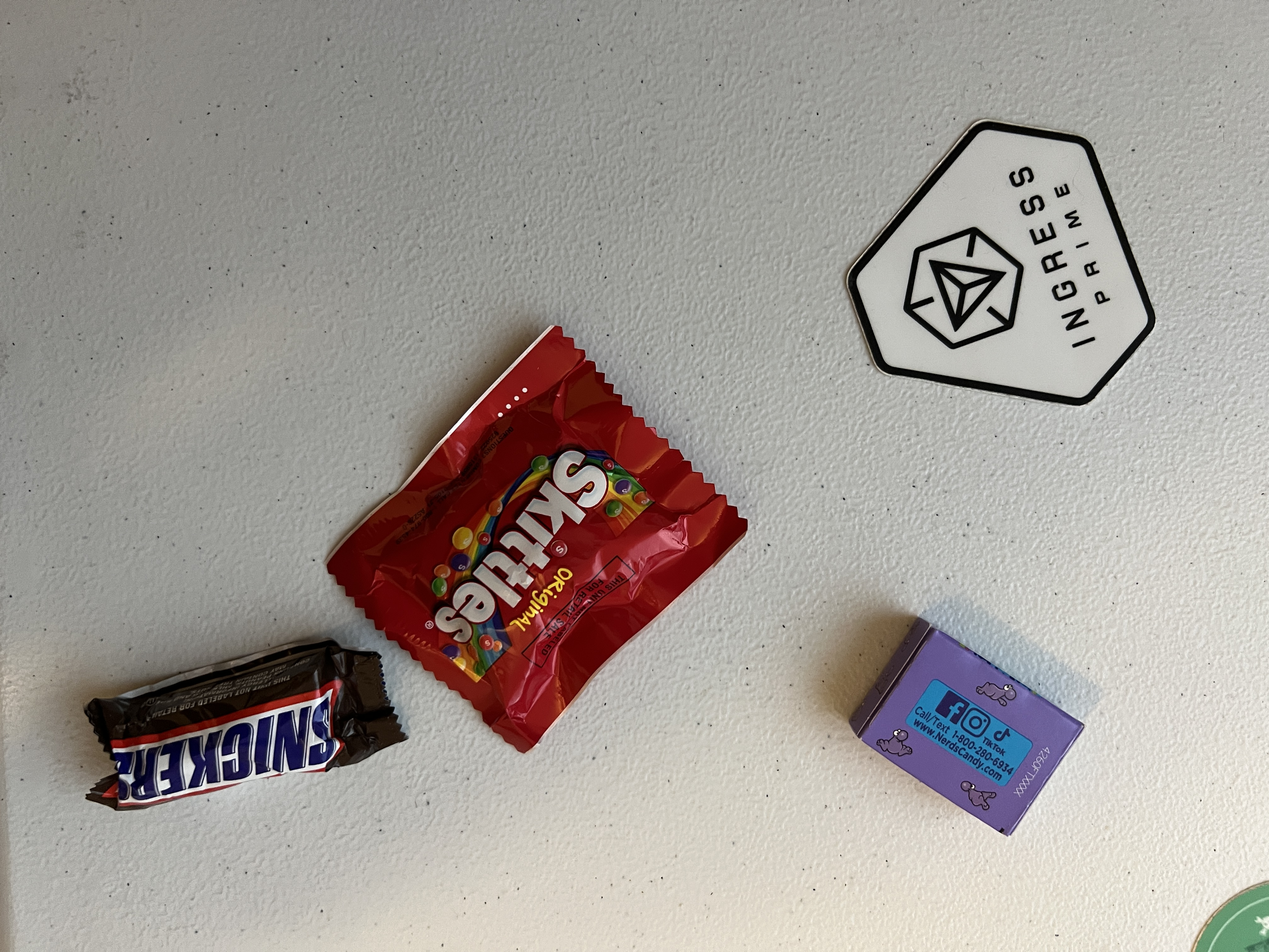nerds: (848, 589, 1098, 848)
skittles: (286, 299, 769, 700)
snickers: (24, 607, 427, 869)
